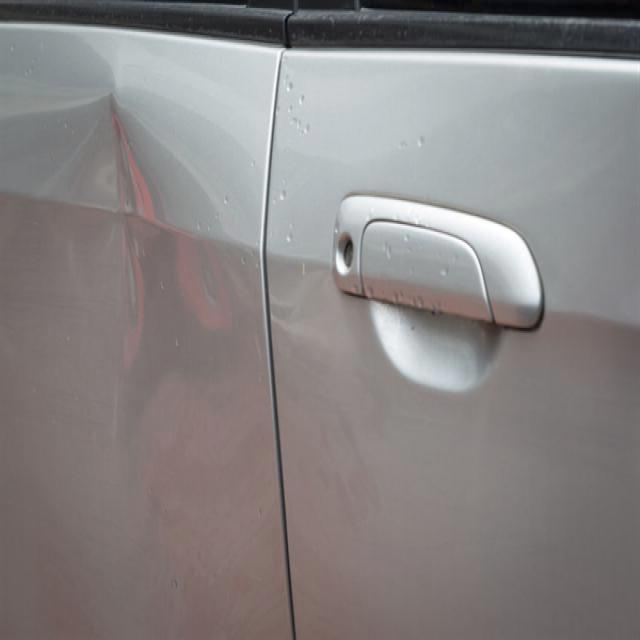minor: (22, 70, 229, 467)
